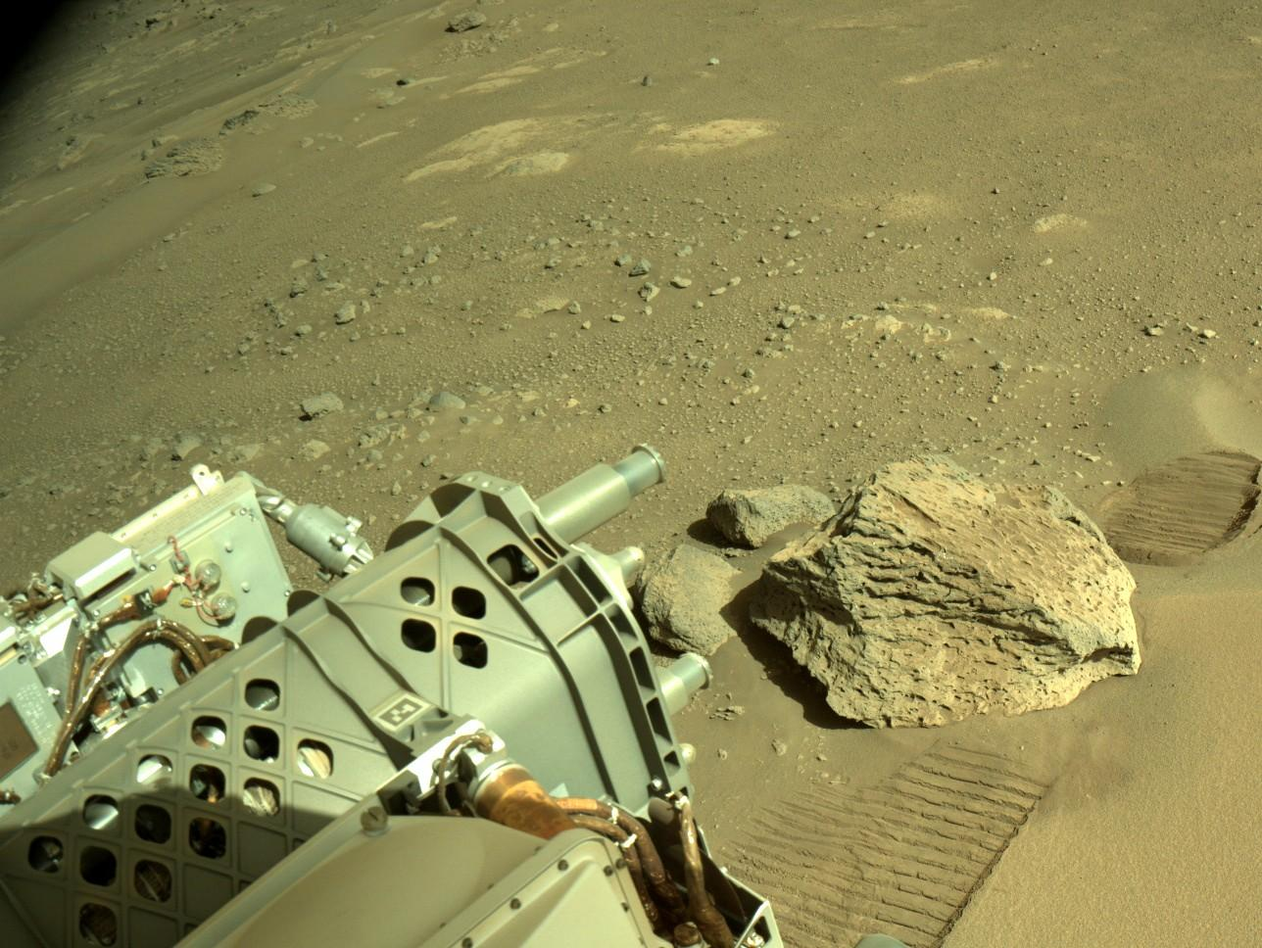bedrock: (0, 353, 608, 580)
big_rock: (617, 448, 1145, 731), (769, 669, 779, 681), (686, 654, 696, 659)
sand: (704, 776, 867, 941), (1173, 557, 1245, 638), (915, 928, 1251, 945), (659, 648, 712, 720), (628, 538, 657, 572), (692, 725, 714, 748), (1234, 855, 1240, 931), (1247, 748, 1252, 786), (709, 710, 719, 722), (1117, 715, 1122, 722)
soil: (3, 3, 1261, 936), (478, 424, 808, 540), (868, 915, 923, 927), (692, 749, 707, 779), (710, 723, 741, 731), (687, 721, 707, 732), (796, 911, 811, 924), (832, 414, 846, 418), (203, 457, 210, 459)
